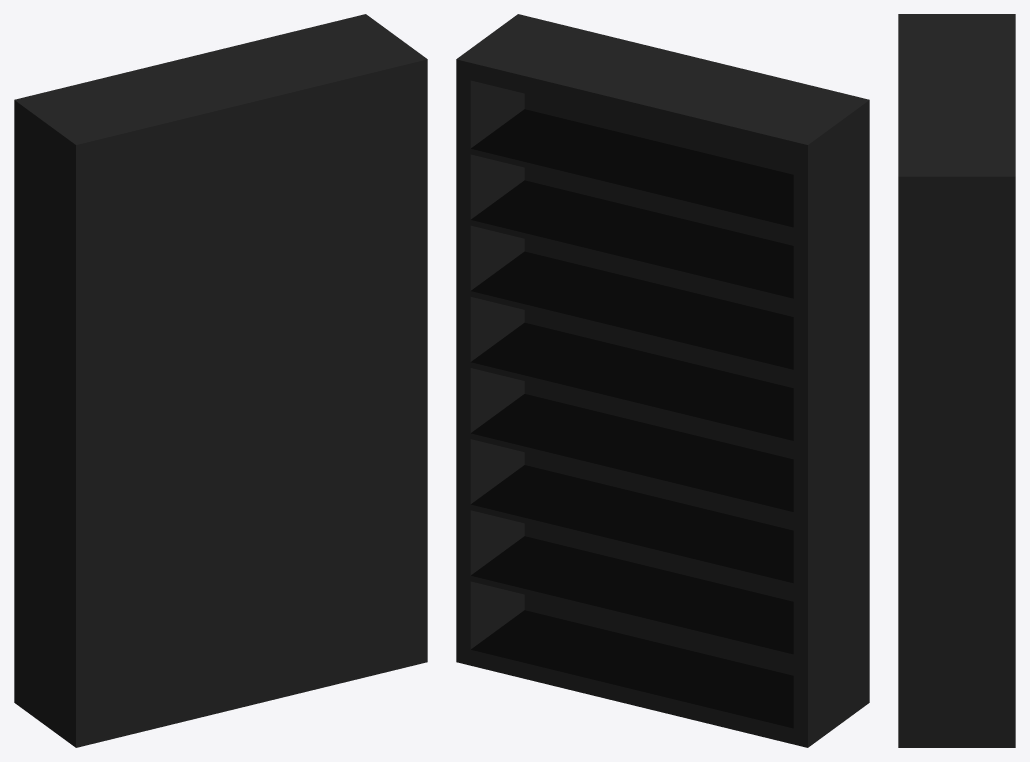
3 renders of one model, left to right at view 1: azimuth 30°, elevation 25°; view 2: azimuth 150°, elevation 25°; view 3: azimuth 270°, elevation 25°, orthographic. The views are drawn at different scales.
Visible parts, largest first — view 1: ArtShelf.005; view 2: ArtShelf.005; view 3: ArtShelf.005.
Boxes of the visible parts, left/top/right/bottom form: ArtShelf.005: left=14, top=14, right=427, bottom=747; ArtShelf.005: left=456, top=14, right=869, bottom=747; ArtShelf.005: left=898, top=14, right=1015, bottom=747.
Size of what is drawn, in the model's own units: 1.38 by 2.26 by 0.4205.
1 material, 1 textured.
